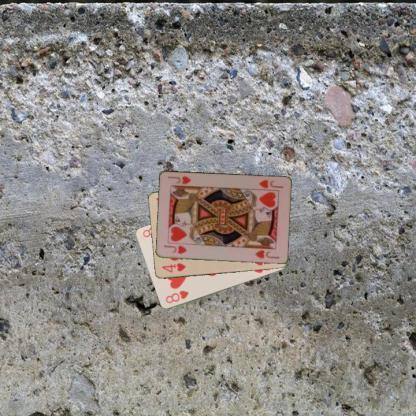4h: (159, 260, 187, 274)
8h: (163, 288, 190, 304)
Jh: (256, 178, 284, 190), (161, 243, 188, 255)
